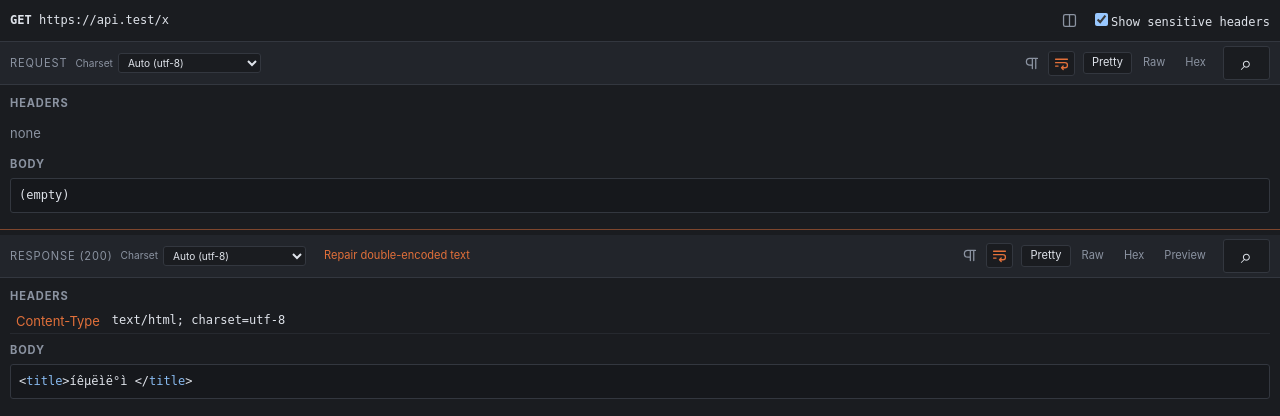
Scenario: FlowDetailView › offers double-encoding repair without changing captured text by default
Check: the text "한국동서발전" is not shown
Click the button "Repair double-encoded text" at (392, 256), box [314, 248, 470, 264]
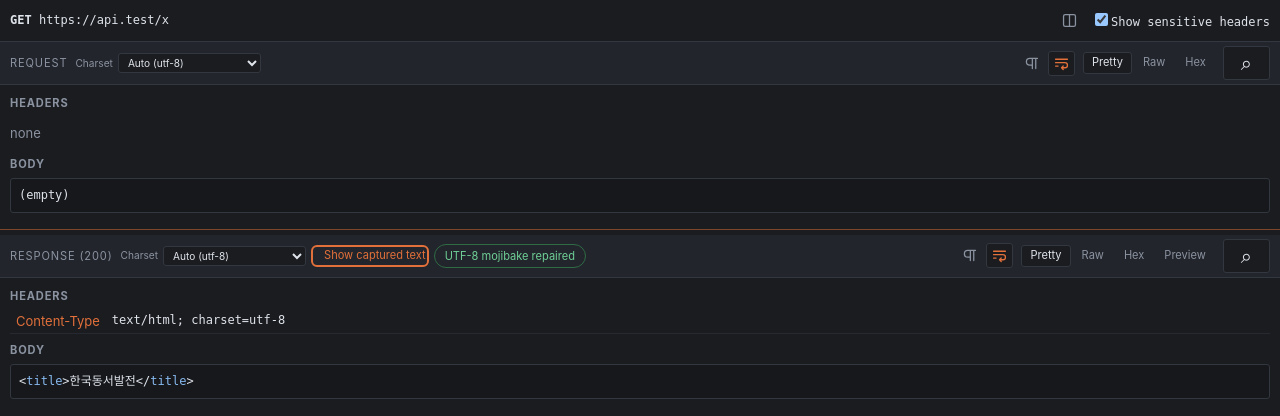
Check: the text "한국동서발전" is shown, box [70, 374, 136, 388]
Check: the text "UTF-8 mojibake repaired" is shown, box [434, 244, 586, 268]
